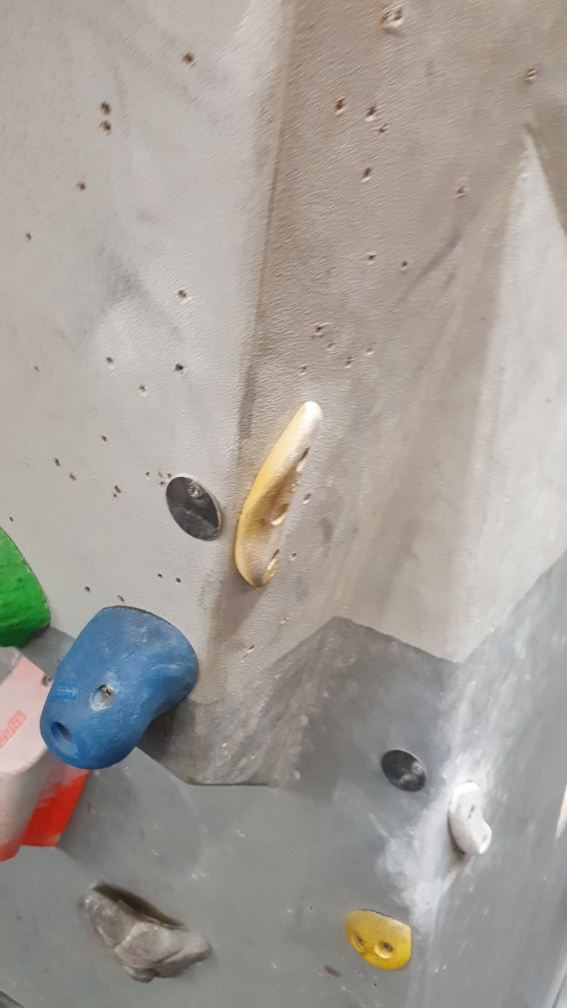Hand Start: (163, 474, 227, 550), (378, 744, 435, 793)
Jug: (76, 878, 214, 988)
Pinch: (1, 656, 90, 867)
